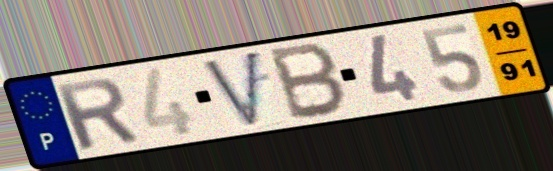4: (140, 66, 198, 138), (365, 32, 421, 105)
5: (417, 21, 486, 94)
B: (267, 40, 350, 123)
R: (50, 75, 143, 153)
V: (198, 46, 263, 131)
